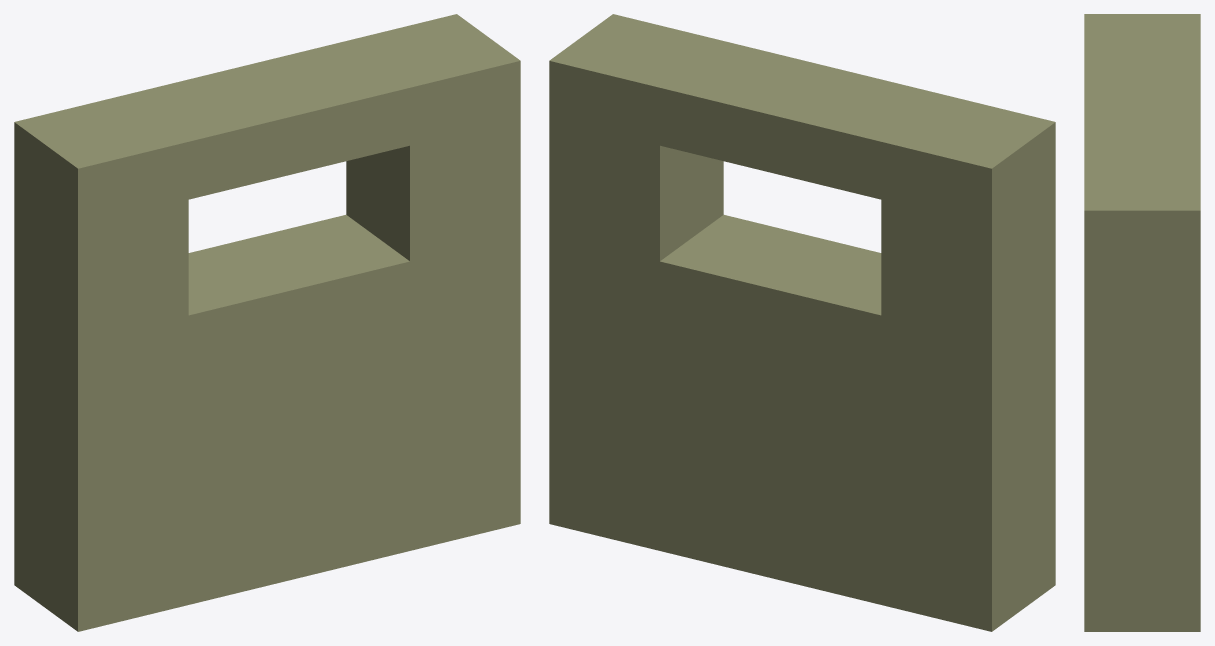
The model's file is entradaA.obj.
The picture shows the model from 3 angles, left to right: view 1: azimuth 30°, elevation 25°; view 2: azimuth 150°, elevation 25°; view 3: azimuth 270°, elevation 25°; orthographic projection. The views are drawn at different scales.
Parts seen in each view (by area): view 1: Wall_window.010; view 2: Wall_window.010; view 3: Wall_window.010.
Boxes of the visible parts, x1,y1,x2,y2 form: Wall_window.010: (14,14,520,631); Wall_window.010: (549,14,1055,631); Wall_window.010: (1084,14,1200,631).
Bounding box in the file's own units: 4 × 4 × 1.
2 materials, 2 textured.
